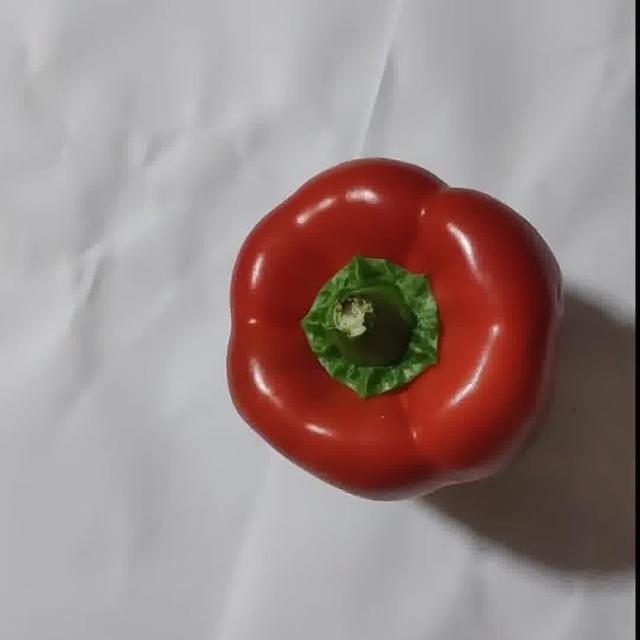Bell Pepper: (226, 159, 560, 497)
